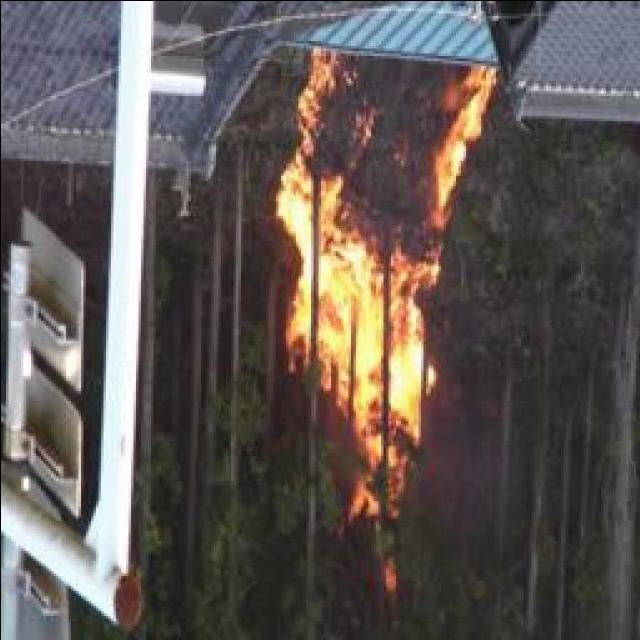Fire: (276, 52, 484, 504)
